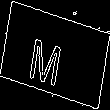M_N: (36, 25, 74, 85)
